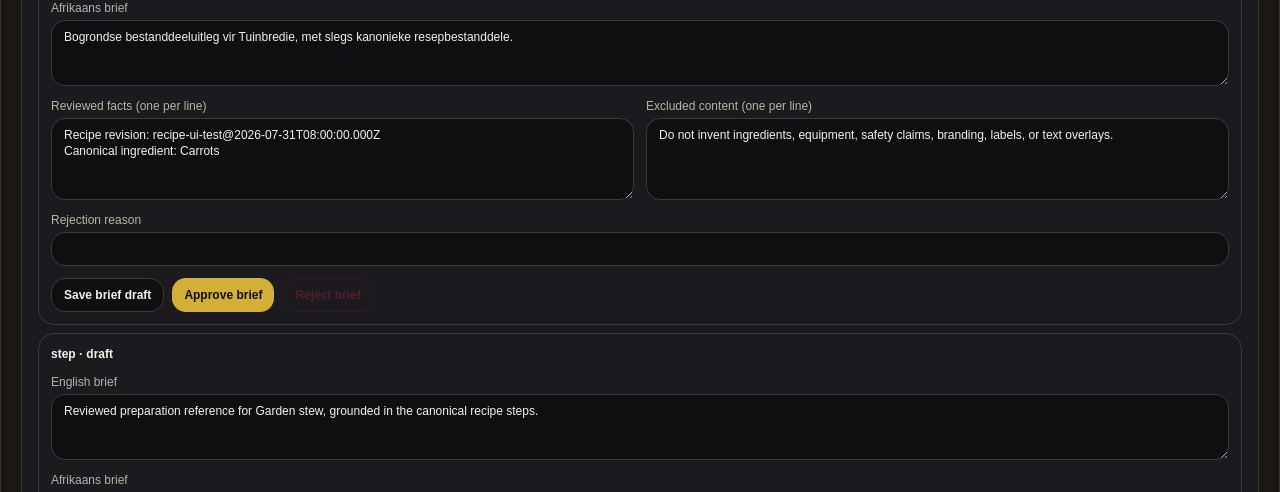
Test case: recipe guidance UI › approves a human-reviewed image brief and previews a disabled request contract
(page scrolled)
Click the button "Approve brief" at (223,295), box [172,278,274,312]
(page scrolled)
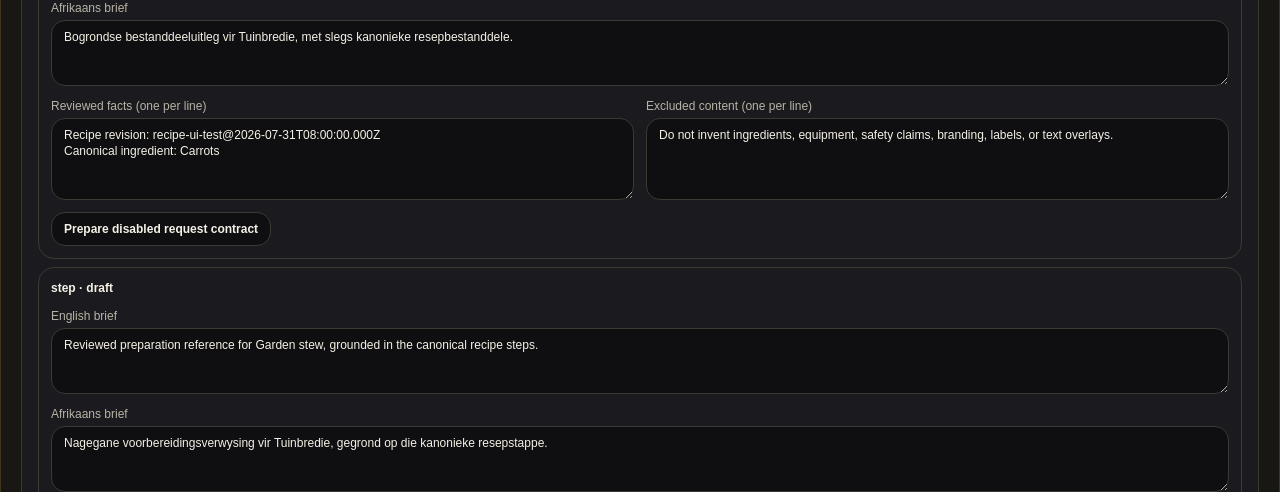
Click the button "Prepare disabled request contract" at (161,229), box [51,212,271,246]
(page scrolled)
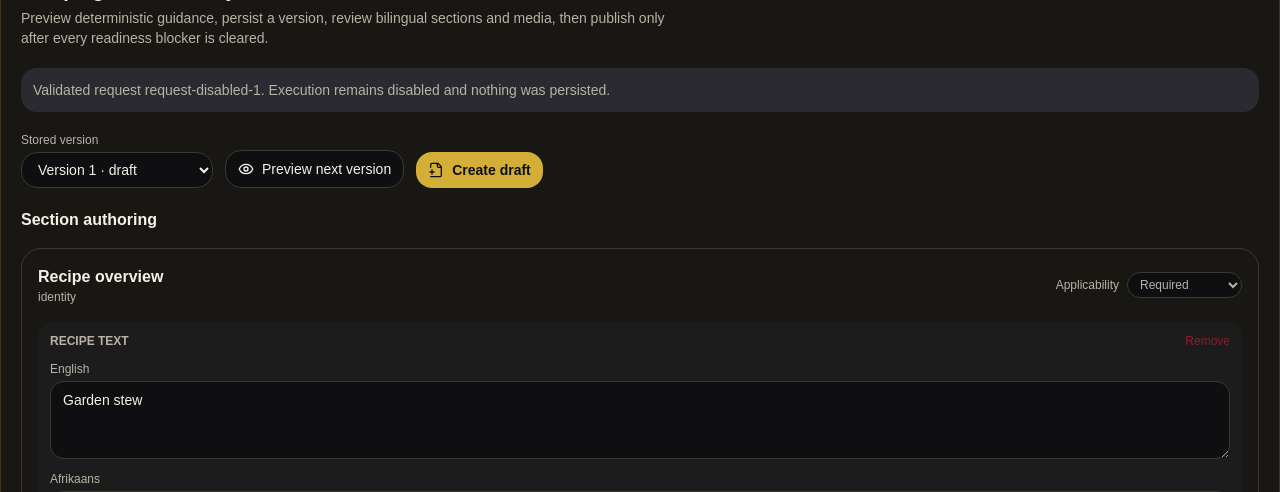
Check: the text "Validated request request-disabled-1. Execution remains disabled and nothing was persisted." is shown, box [33,82,610,98]
